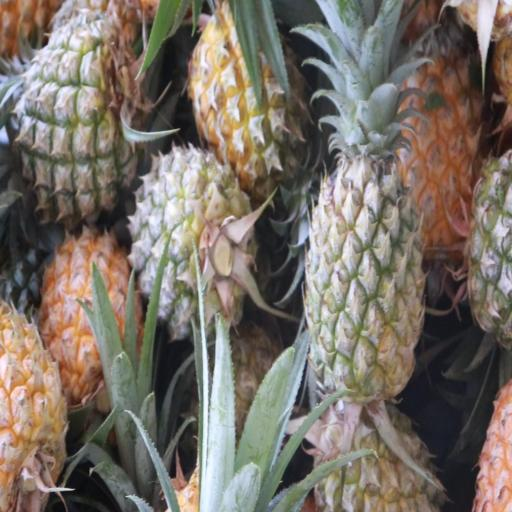------------------------------: (134, 147, 250, 334), (193, 6, 309, 182), (18, 38, 131, 214)
Pineapple - v8 v1: (406, 20, 486, 249), (45, 226, 141, 396), (0, 296, 69, 512)
